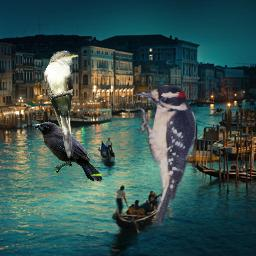Crow: (32, 122, 103, 182)
Cuckoo: (44, 50, 79, 158)
Woodpecker: (135, 82, 199, 226)
